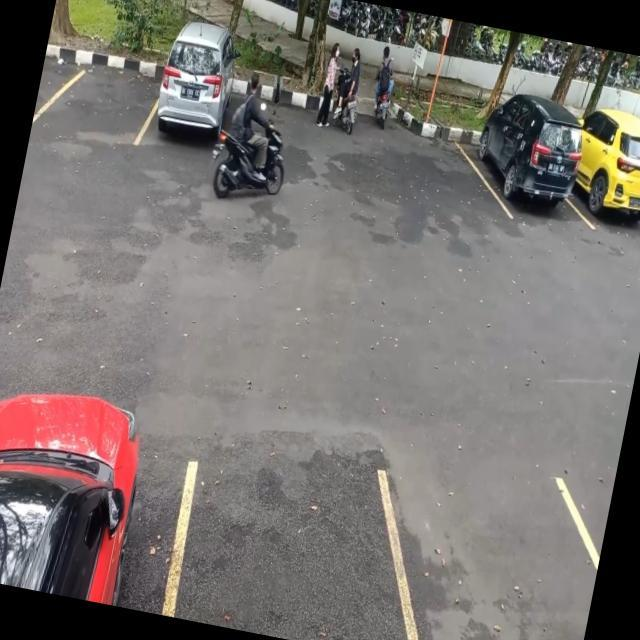empty: (156, 432, 409, 640), (375, 447, 614, 640), (40, 40, 158, 150)
occupied: (465, 104, 590, 230), (143, 38, 249, 161), (568, 108, 640, 243)
